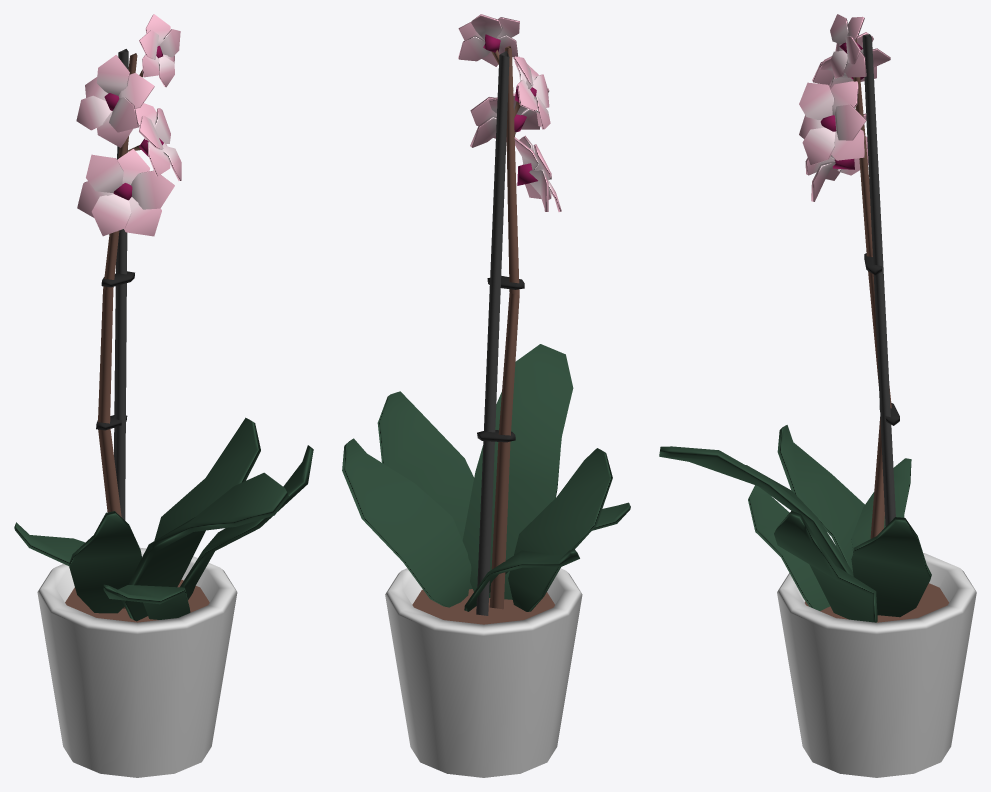
Rendered from flower_005.fbx.
3 renders of one model, left to right at view 1: azimuth 30°, elevation 25°; view 2: azimuth 150°, elevation 25°; view 3: azimuth 270°, elevation 25°, orthographic.
Parts seen in each view (by area): view 1: flower_005; view 2: flower_005; view 3: flower_005.
Boxes of the visible parts, box(x1,y1,x2,y2) form: flower_005: box(14, 14, 313, 777); flower_005: box(342, 14, 630, 777); flower_005: box(659, 14, 976, 777).
Bounding box in the file's own units: 56.67 × 62.99 × 161.
